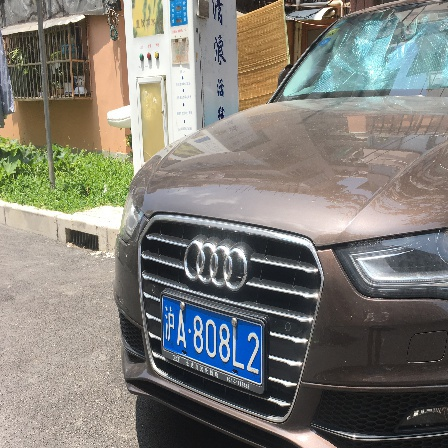plate: (156, 290, 269, 393)
